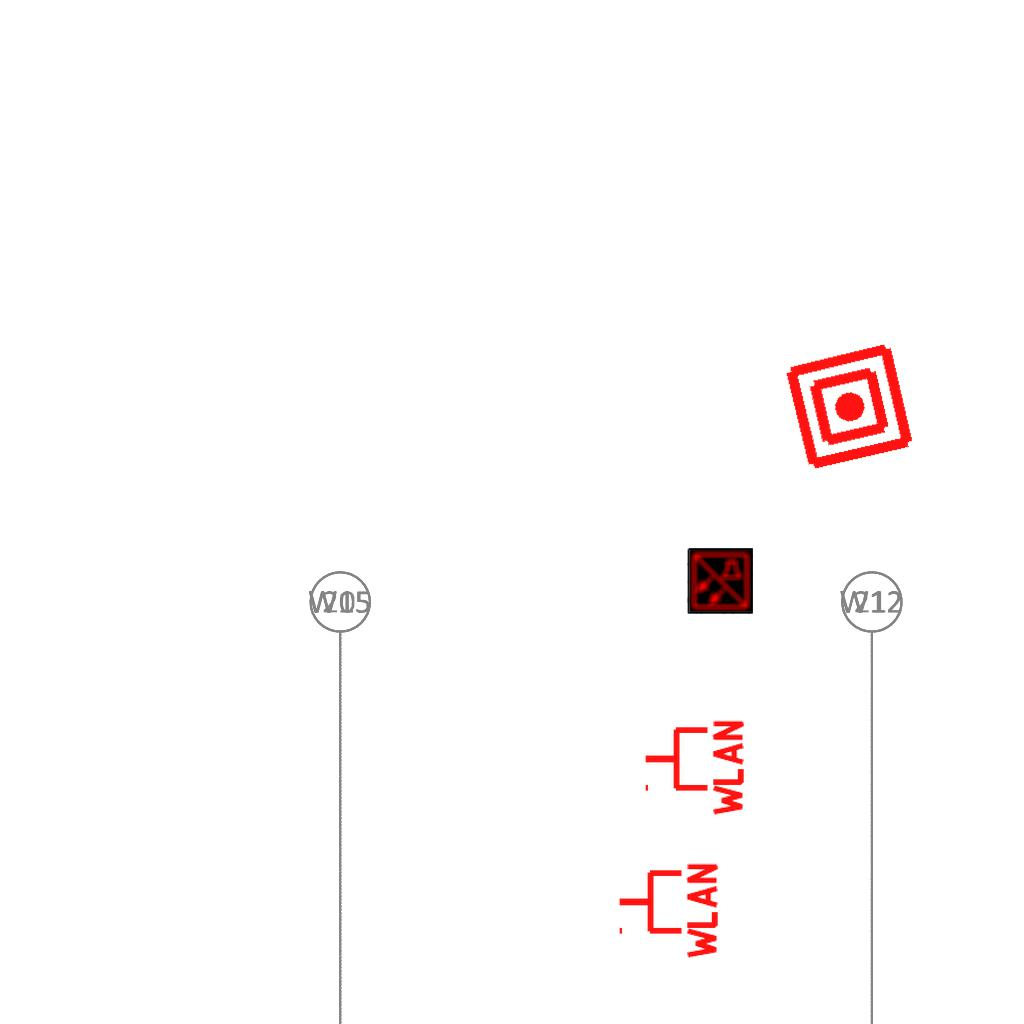NAM-Nichtautomatischer_Melder: (781, 338, 918, 475)
OKW_Multisensormelder_(Kombination_optischer_Rauch-Kahlenmonoxid_Waerme-Melder): (687, 548, 753, 614)
WLAN: (615, 859, 720, 963), (641, 716, 746, 820)
